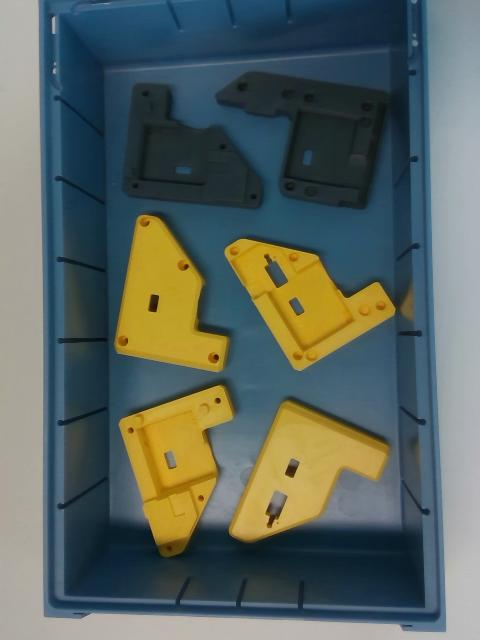1Agray: (119, 79, 269, 211)
1Ayellow: (119, 383, 247, 557), (114, 216, 233, 374)
1Byellow: (228, 396, 394, 544), (225, 236, 397, 373)
3Bgray: (214, 69, 391, 212)
